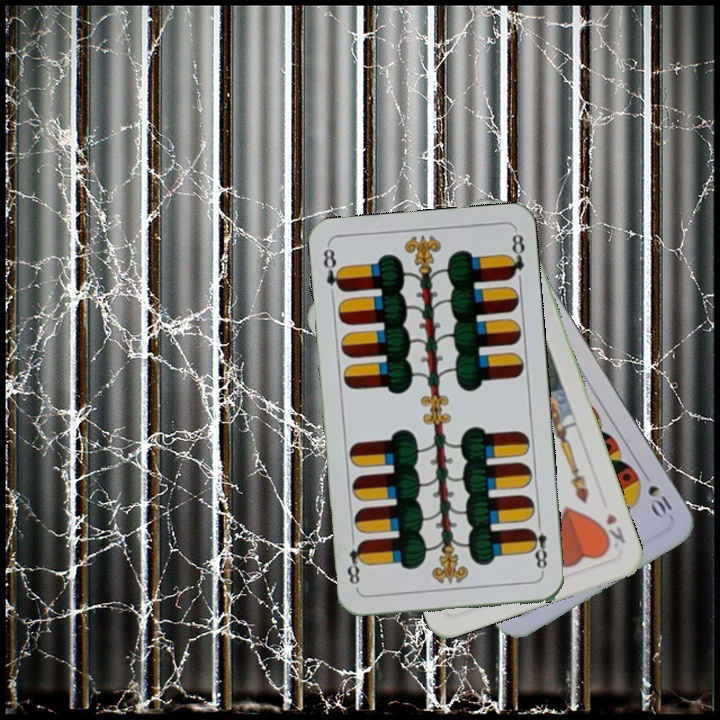E8: (525, 517, 550, 576), (319, 244, 346, 294)
HK: (596, 509, 628, 551)
S10: (643, 481, 675, 521)
